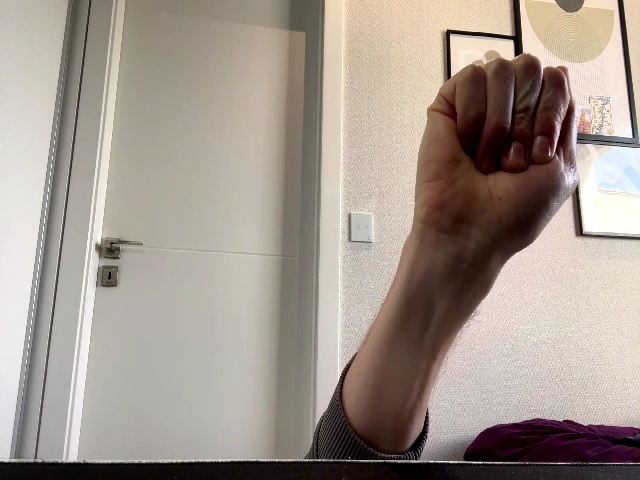A: (413, 54, 579, 256)
